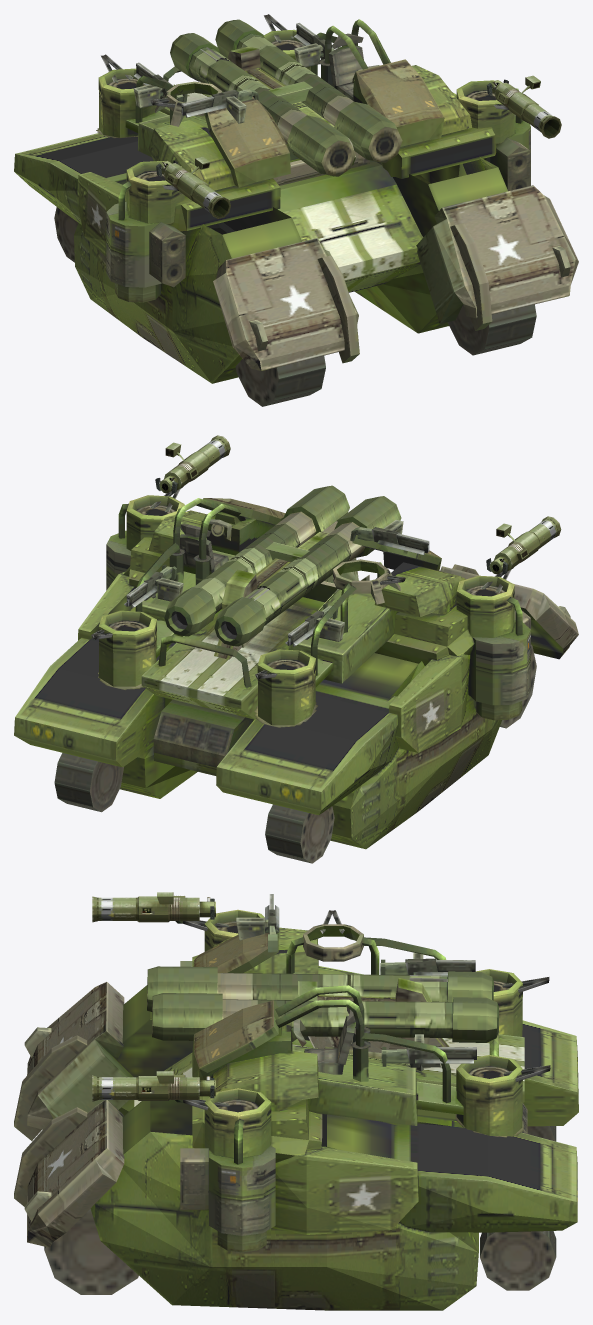
The model's file is VWFBSTAH.obj.
3 views of the same model, one above another, from view 1: azimuth 30°, elevation 25°; view 2: azimuth 150°, elevation 25°; view 3: azimuth 270°, elevation 25° (orthographic). The views are drawn at different scales.
Parts seen in each view (by area): view 1: Node 0, Node 10, Node 7, Node 3, Node 1, Node 14, Node 19, Node 34, Node 24, Node 6, Node 29, Node 4; view 2: Node 0, Node 10, Node 7, Node 4, Node 2, Node 14, Node 19, Node 34, Node 24, Node 29, Node 6; view 3: Node 0, Node 7, Node 10, Node 1, Node 2, Node 19, Node 14, Node 24, Node 29, Node 6, Node 34.
Boxes of the visible parts, x1,y1,x2,y2 form: Node 0: (14, 19, 578, 383); Node 10: (170, 33, 355, 176); Node 7: (215, 19, 402, 162); Node 3: (235, 355, 325, 406); Node 1: (447, 304, 536, 355); Node 14: (486, 75, 561, 138); Node 19: (156, 156, 230, 218); Node 34: (181, 89, 259, 123); Node 24: (294, 22, 334, 67); Node 6: (245, 67, 312, 143); Node 29: (133, 62, 187, 108); Node 4: (54, 207, 78, 262); Node 0: (14, 495, 578, 849); Node 10: (214, 496, 401, 646); Node 7: (164, 485, 349, 636); Node 4: (265, 804, 334, 863); Node 2: (54, 753, 123, 812); Node 14: (155, 435, 230, 493); Node 19: (486, 516, 561, 574); Node 34: (350, 519, 429, 555); Node 24: (124, 564, 183, 607); Node 29: (285, 603, 344, 646); Node 6: (214, 542, 309, 659); Node 0: (14, 909, 578, 1310); Node 7: (152, 993, 498, 1042); Node 10: (147, 966, 493, 1011); Node 1: (44, 1209, 138, 1294); Node 2: (480, 1231, 556, 1290); Node 19: (92, 892, 215, 923); Node 14: (92, 1071, 215, 1102); Node 24: (381, 1034, 476, 1071); Node 29: (380, 952, 475, 975); Node 6: (298, 981, 449, 1052); Node 34: (236, 894, 279, 952).
Size of what is drawn, in the model's own units: 8.95 by 5.26 by 9.48.
32 materials, 32 textured.
